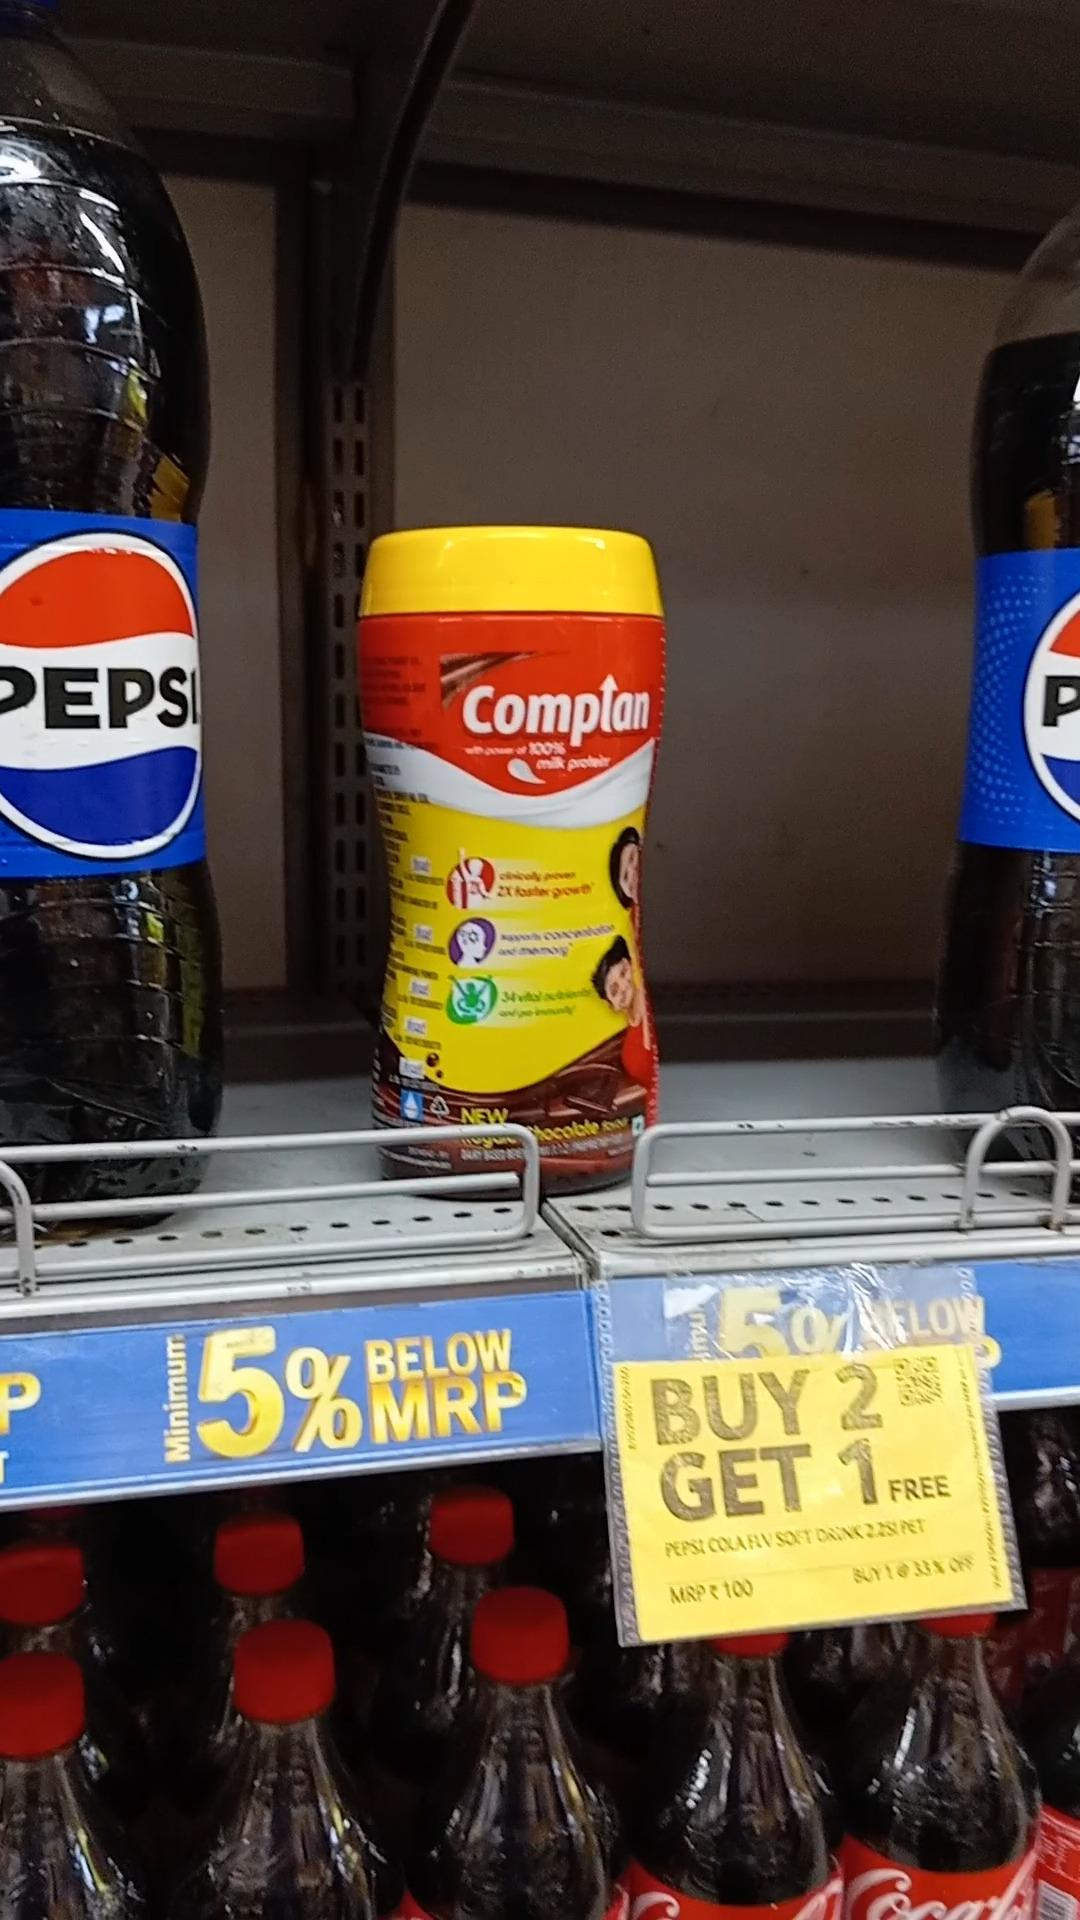COMPLAN_CHOCOLATE_500_GMS_JAR: (364, 520, 669, 1192)
